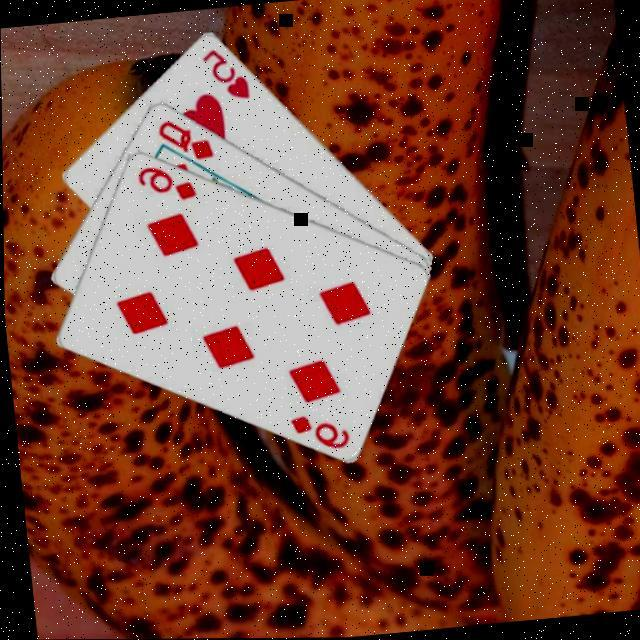5H: (194, 42, 252, 106)
6D: (282, 408, 351, 456), (130, 160, 197, 207)
QD: (150, 114, 215, 166)
